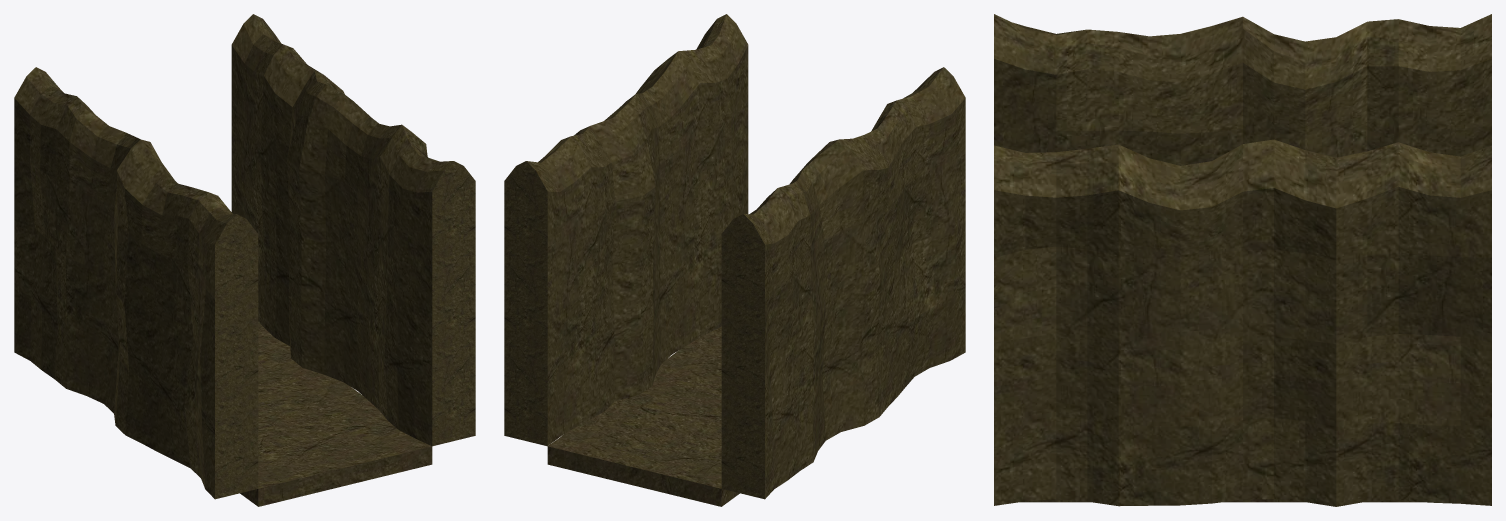
File: cave_corridor_01_limestone.glb
3 renders of one model, left to right at view 1: azimuth 30°, elevation 25°; view 2: azimuth 150°, elevation 25°; view 3: azimuth 270°, elevation 25°, orthographic. The views are drawn at different scales.
Parts seen in each view (by area): view 1: cave_corridor_01_limestone; view 2: cave_corridor_01_limestone; view 3: cave_corridor_01_limestone.
Boxes of the visible parts, x1,y1,x2,y2 form: cave_corridor_01_limestone: (14, 14, 475, 506); cave_corridor_01_limestone: (504, 14, 965, 506); cave_corridor_01_limestone: (994, 14, 1491, 506).
Size of the model in its own units: 3.09 by 3.28 by 4.
2 materials, 2 textured.
